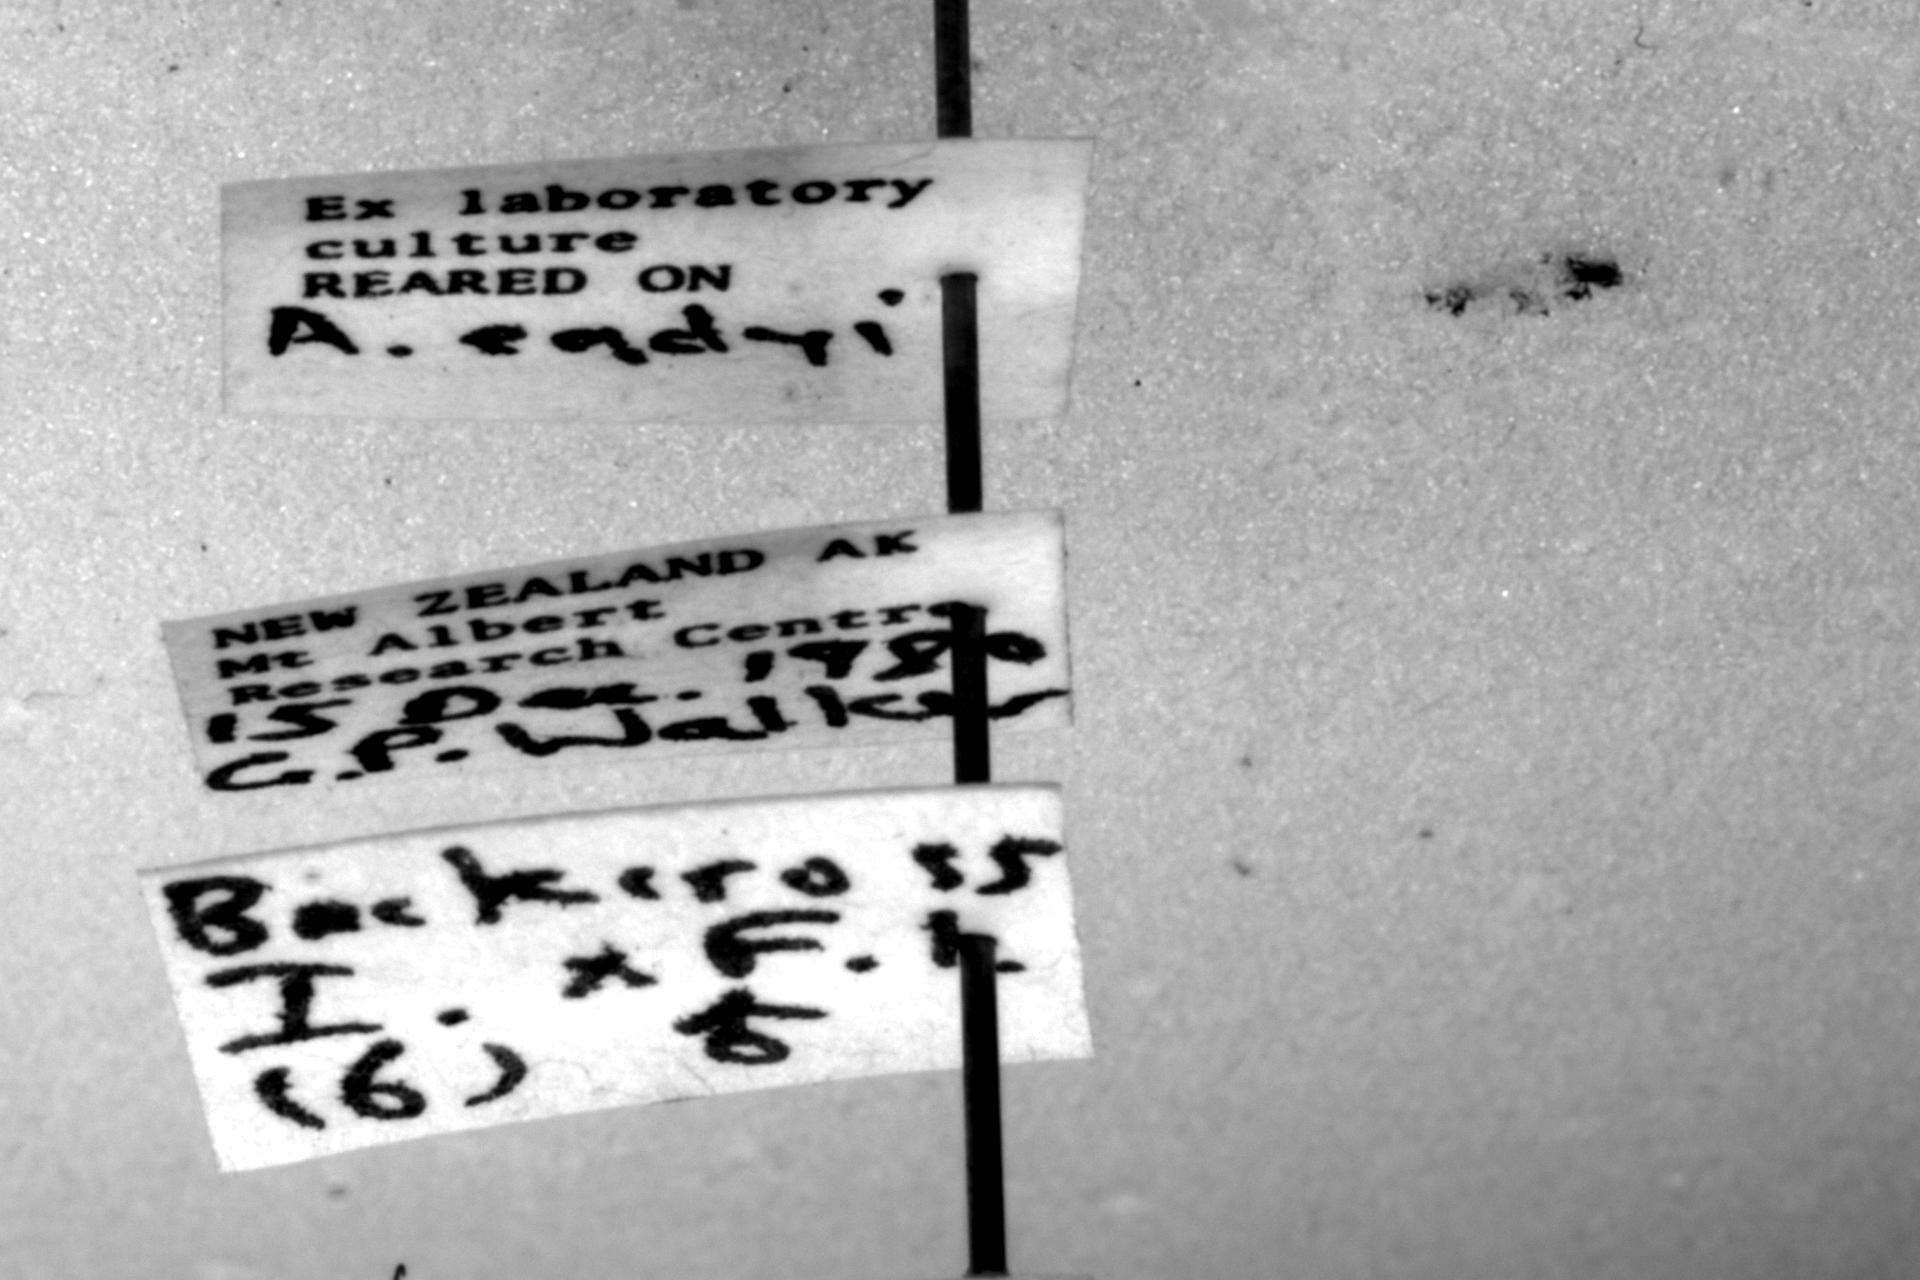hand_label: (143, 784, 1091, 1170)
mixed_label: (166, 510, 1073, 791), (221, 139, 1091, 420)
